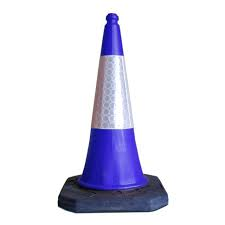cones: (59, 12, 170, 215)
